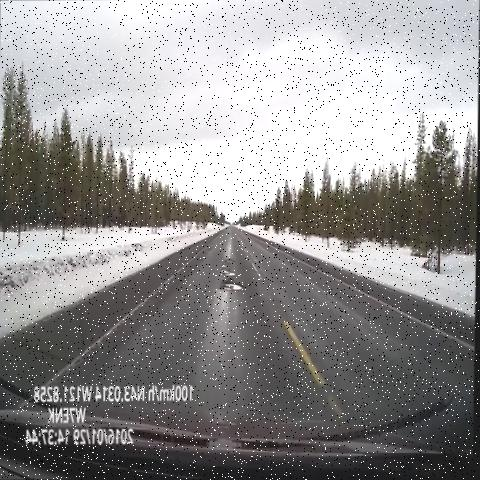pothole: (217, 246, 248, 300)
